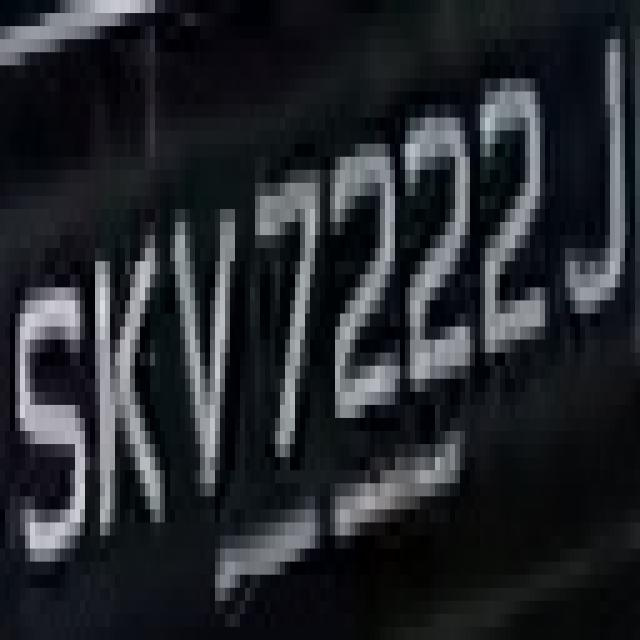2: (380, 118, 480, 444), (310, 144, 405, 470), (460, 65, 550, 392)
7: (245, 183, 325, 496)
J: (565, 13, 635, 340)
K: (80, 222, 175, 562)
S: (5, 261, 85, 614)
V: (150, 209, 245, 549)
